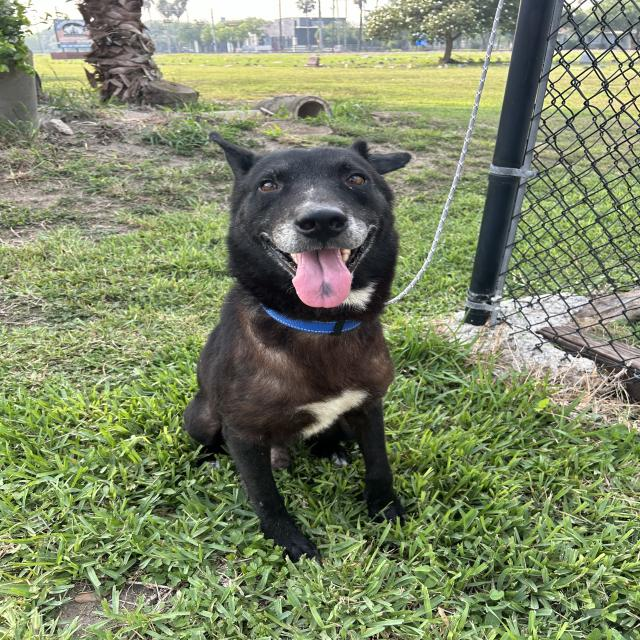labrador_retriever_dog: (180, 121, 428, 330)
